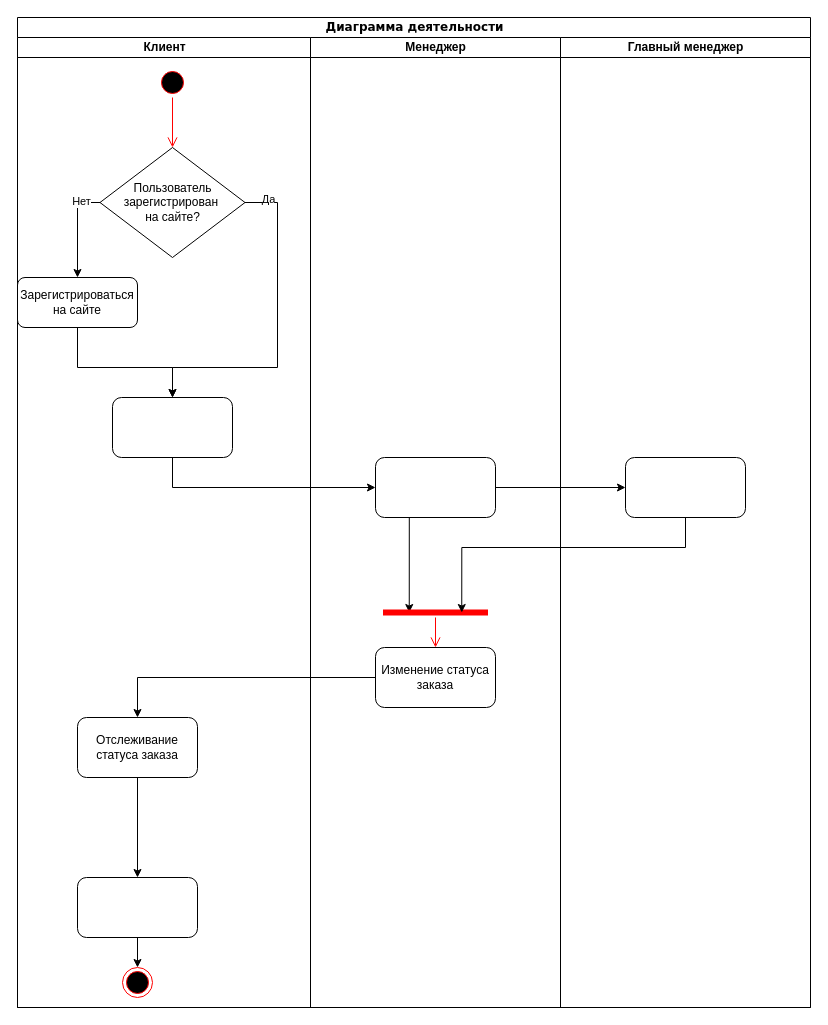
The diagram is 828 pixels wide and 1025 high, and some of its shapes have lost their labels. The shapes that lost their labels are listed below. From the top down, each one's centre as x and y in pixels, then its label:
At [172,427]: "Оформление заказа".
At [435,487]: "Обработка заказа".
At [685,487]: "Добавление заказа в БД".
At [137,907]: "Информирование клиента об завершении заявки".
